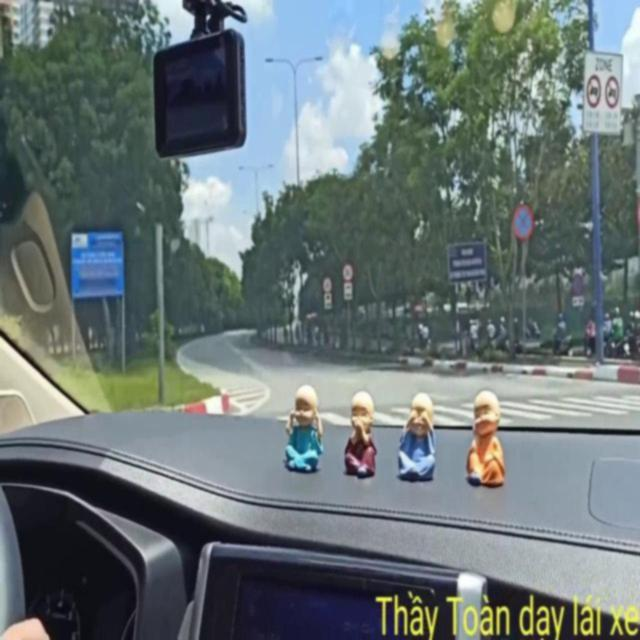Biển phụ: (341, 278, 354, 303), (320, 294, 332, 312), (572, 294, 584, 307)
Cấm các phương tiện hoạt động trong khung giờ cố định: (579, 42, 626, 139)
Cấm dừng - Cấm đỗ: (511, 195, 531, 241), (570, 269, 585, 293)
Giới hạn tốc độ: 60Km/h: (320, 271, 333, 294)
Giới hạn tốc độ: 80Km/h: (341, 259, 354, 283)
Khác: (66, 223, 129, 301), (446, 241, 490, 283)
